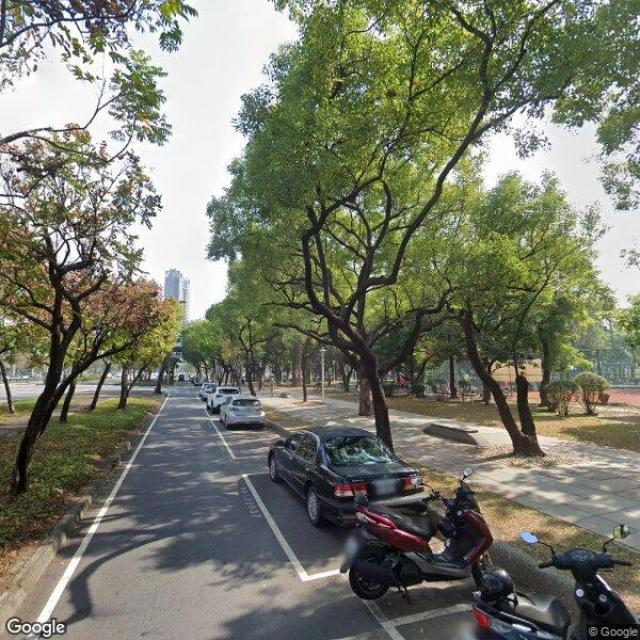Legalparking: (268, 426, 635, 639), (209, 393, 265, 428)
